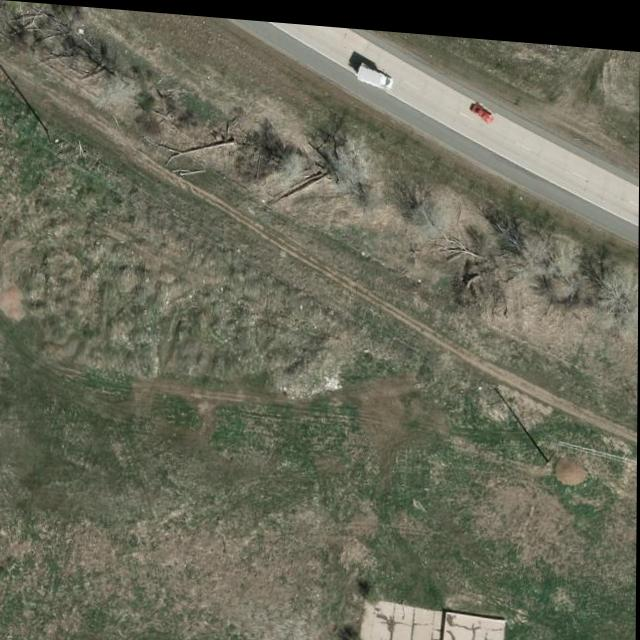vehicle: (357, 54, 397, 88), (472, 94, 496, 116)
